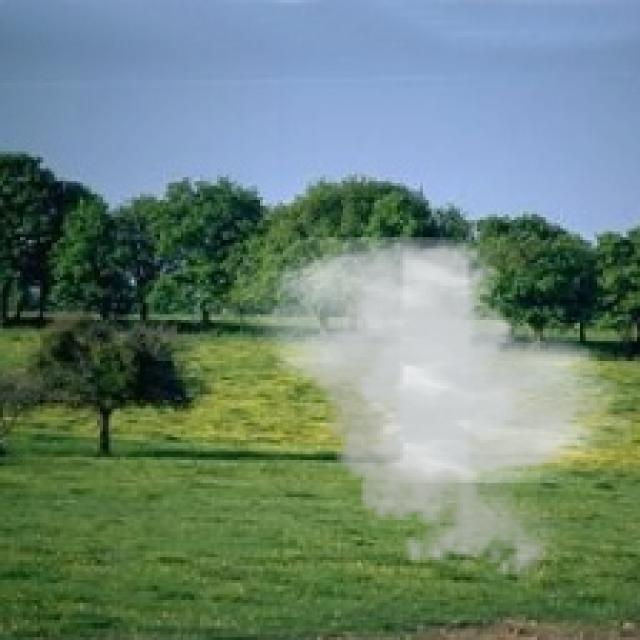smoke: (240, 237, 631, 586)
